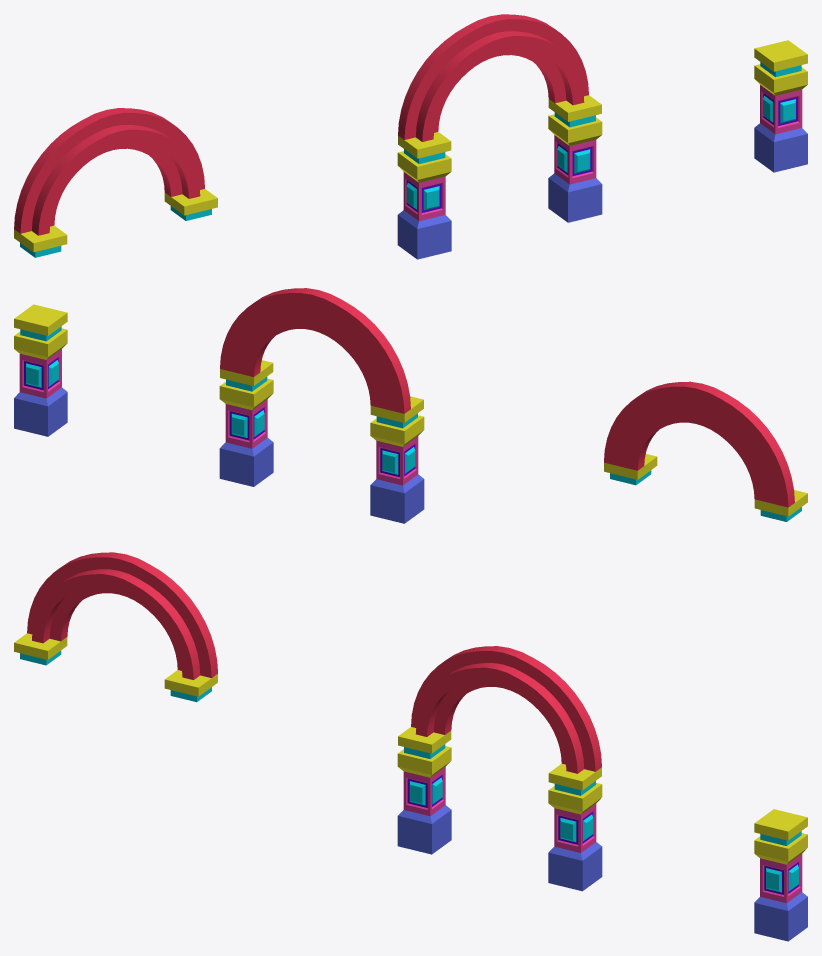
Rendered from Arco_Fabre.fbx.
3 renders of one model, top to bottom at view 1: azimuth 30°, elevation 25°; view 2: azimuth 150°, elevation 25°; view 3: azimuth 330°, elevation 25°, orthographic.
Visible parts, largest first — view 1: Puerta_Arco, Puerta_Arco.001, Puerta_Arco.002; view 2: Puerta_Arco, Puerta_Arco.001, Puerta_Arco.002; view 3: Puerta_Arco, Puerta_Arco.001, Puerta_Arco.002.
Boxes of the visible parts, x1=… form: Puerta_Arco: x1=397, y1=14, x2=602, y2=259; Puerta_Arco.001: x1=14, y1=108, x2=217, y2=257; Puerta_Arco.002: x1=754, y1=40, x2=807, y2=172; Puerta_Arco: x1=219, y1=288, x2=424, y2=523; Puerta_Arco.001: x1=604, y1=381, x2=807, y2=521; Puerta_Arco.002: x1=14, y1=304, x2=67, y2=436; Puerta_Arco: x1=397, y1=646, x2=602, y2=891; Puerta_Arco.001: x1=14, y1=552, x2=217, y2=702; Puerta_Arco.002: x1=754, y1=809, x2=807, y2=941.
Size of the model in its own units: 2158 by 550 by 94.81.
